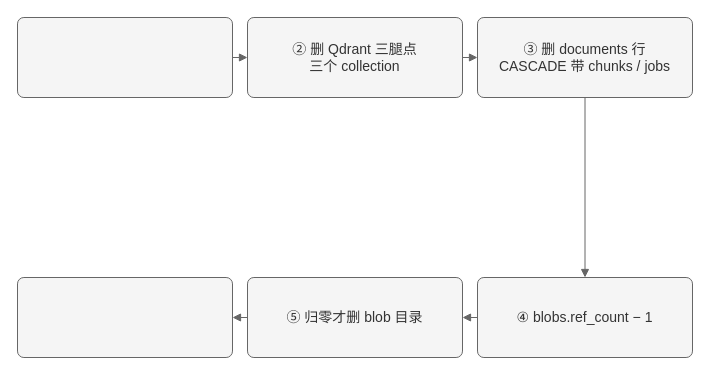
Some shapes in this 710 by 375 pixel diagram are drawn without their labels. Here are the shapes that lost their labels. From the top down, the centre of each, then its label:
the point at 124,57: ① df 减回去 bm25.tokenize
the point at 124,317: ⑥ 不动 audit_log 保留 180 天
